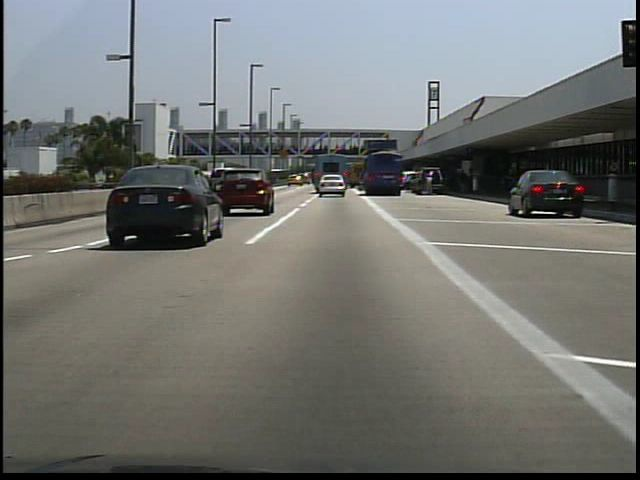person: (454, 165, 470, 199)
